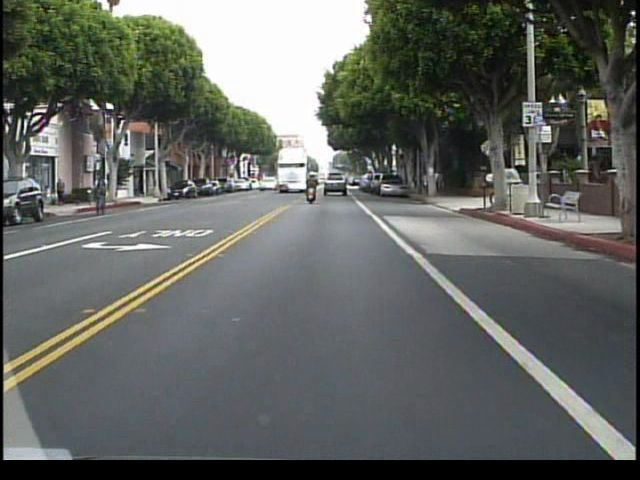person: (92, 171, 112, 211), (305, 168, 323, 209), (418, 168, 429, 197), (439, 167, 448, 194), (436, 170, 437, 194)
